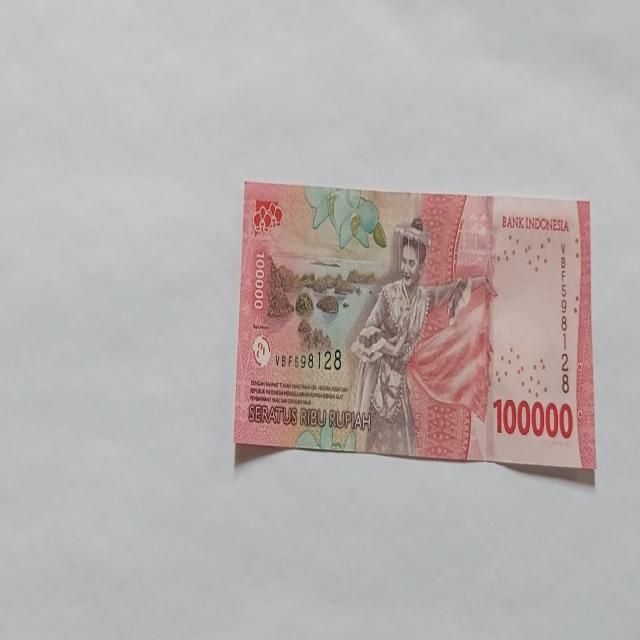seratus ribu rupiah: (232, 182, 596, 470), (346, 216, 495, 459)
